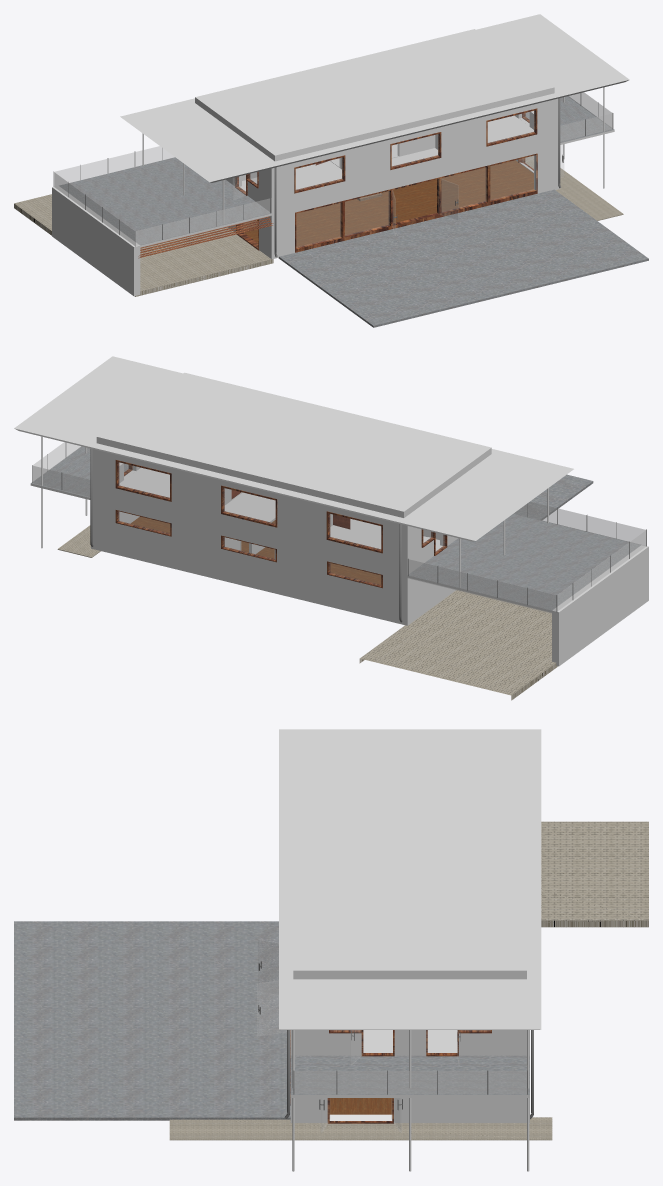
The model's file is House.glb.
The picture shows the model from 3 angles, top to bottom: view 1: azimuth 30°, elevation 25°; view 2: azimuth 150°, elevation 25°; view 3: azimuth 270°, elevation 25°; orthographic projection. The views are drawn at different scales.
Parts seen in each view (by area): view 1: Roof, Patio, Balcony, Walls_Main, Ground_floor_glasswall, Floor1, Railing, Driveway, Floor2, Balcony2, Walkway, Window (+7 smaller); view 2: Roof, Walls_Main, Balcony, Driveway, Railing, Floor2, Balcony2, Window.003, Window.004, Window.005, Patio, Floor1 (+6 smaller); view 3: Roof, Patio, Driveway, Balcony2, Walls_Main, Walkway, Railing, Floor2, Door_glasswall1, Poles, Door_glasswall2, Floor1.
Boxes of the visible parts, box(x1,y1,x2,y2) form: Roof: box(120, 14, 629, 182); Patio: box(278, 189, 648, 327); Balcony: box(52, 157, 272, 296); Walls_Main: box(226, 98, 559, 259); Ground_floor_glasswall: box(295, 153, 537, 252); Floor1: box(242, 160, 533, 246); Railing: box(54, 92, 612, 247); Driveway: box(14, 194, 273, 296); Floor2: box(242, 115, 533, 189); Balcony2: box(525, 96, 614, 144); Walkway: box(525, 155, 623, 220); Window: box(486, 108, 537, 146); Roof: box(14, 356, 573, 541); Walls_Main: box(91, 449, 457, 625); Balcony: box(407, 514, 648, 666); Driveway: box(359, 590, 557, 700); Railing: box(32, 442, 646, 613); Floor2: box(119, 467, 439, 549); Balcony2: box(30, 446, 128, 499); Window.003: box(326, 511, 382, 553); Window.004: box(221, 485, 277, 527); Window.005: box(115, 460, 171, 501); Patio: box(514, 474, 593, 520); Floor1: box(130, 516, 381, 584); Roof: box(279, 729, 541, 1029); Patio: box(14, 921, 290, 1120); Driveway: box(541, 821, 648, 927); Balcony2: box(290, 1055, 529, 1097); Walls_Main: box(290, 1030, 529, 1122); Walkway: box(169, 1117, 552, 1140); Railing: box(294, 1071, 527, 1094); Floor2: box(363, 1030, 457, 1051); Door_glasswall1: box(257, 980, 286, 1036); Poles: box(292, 1030, 529, 1171); Door_glasswall2: box(257, 939, 278, 994); Floor1: box(329, 1098, 392, 1114).
Bounding box in the file's own units: 20.68 × 4.53 × 15.8.
12 materials, 7 textured.
